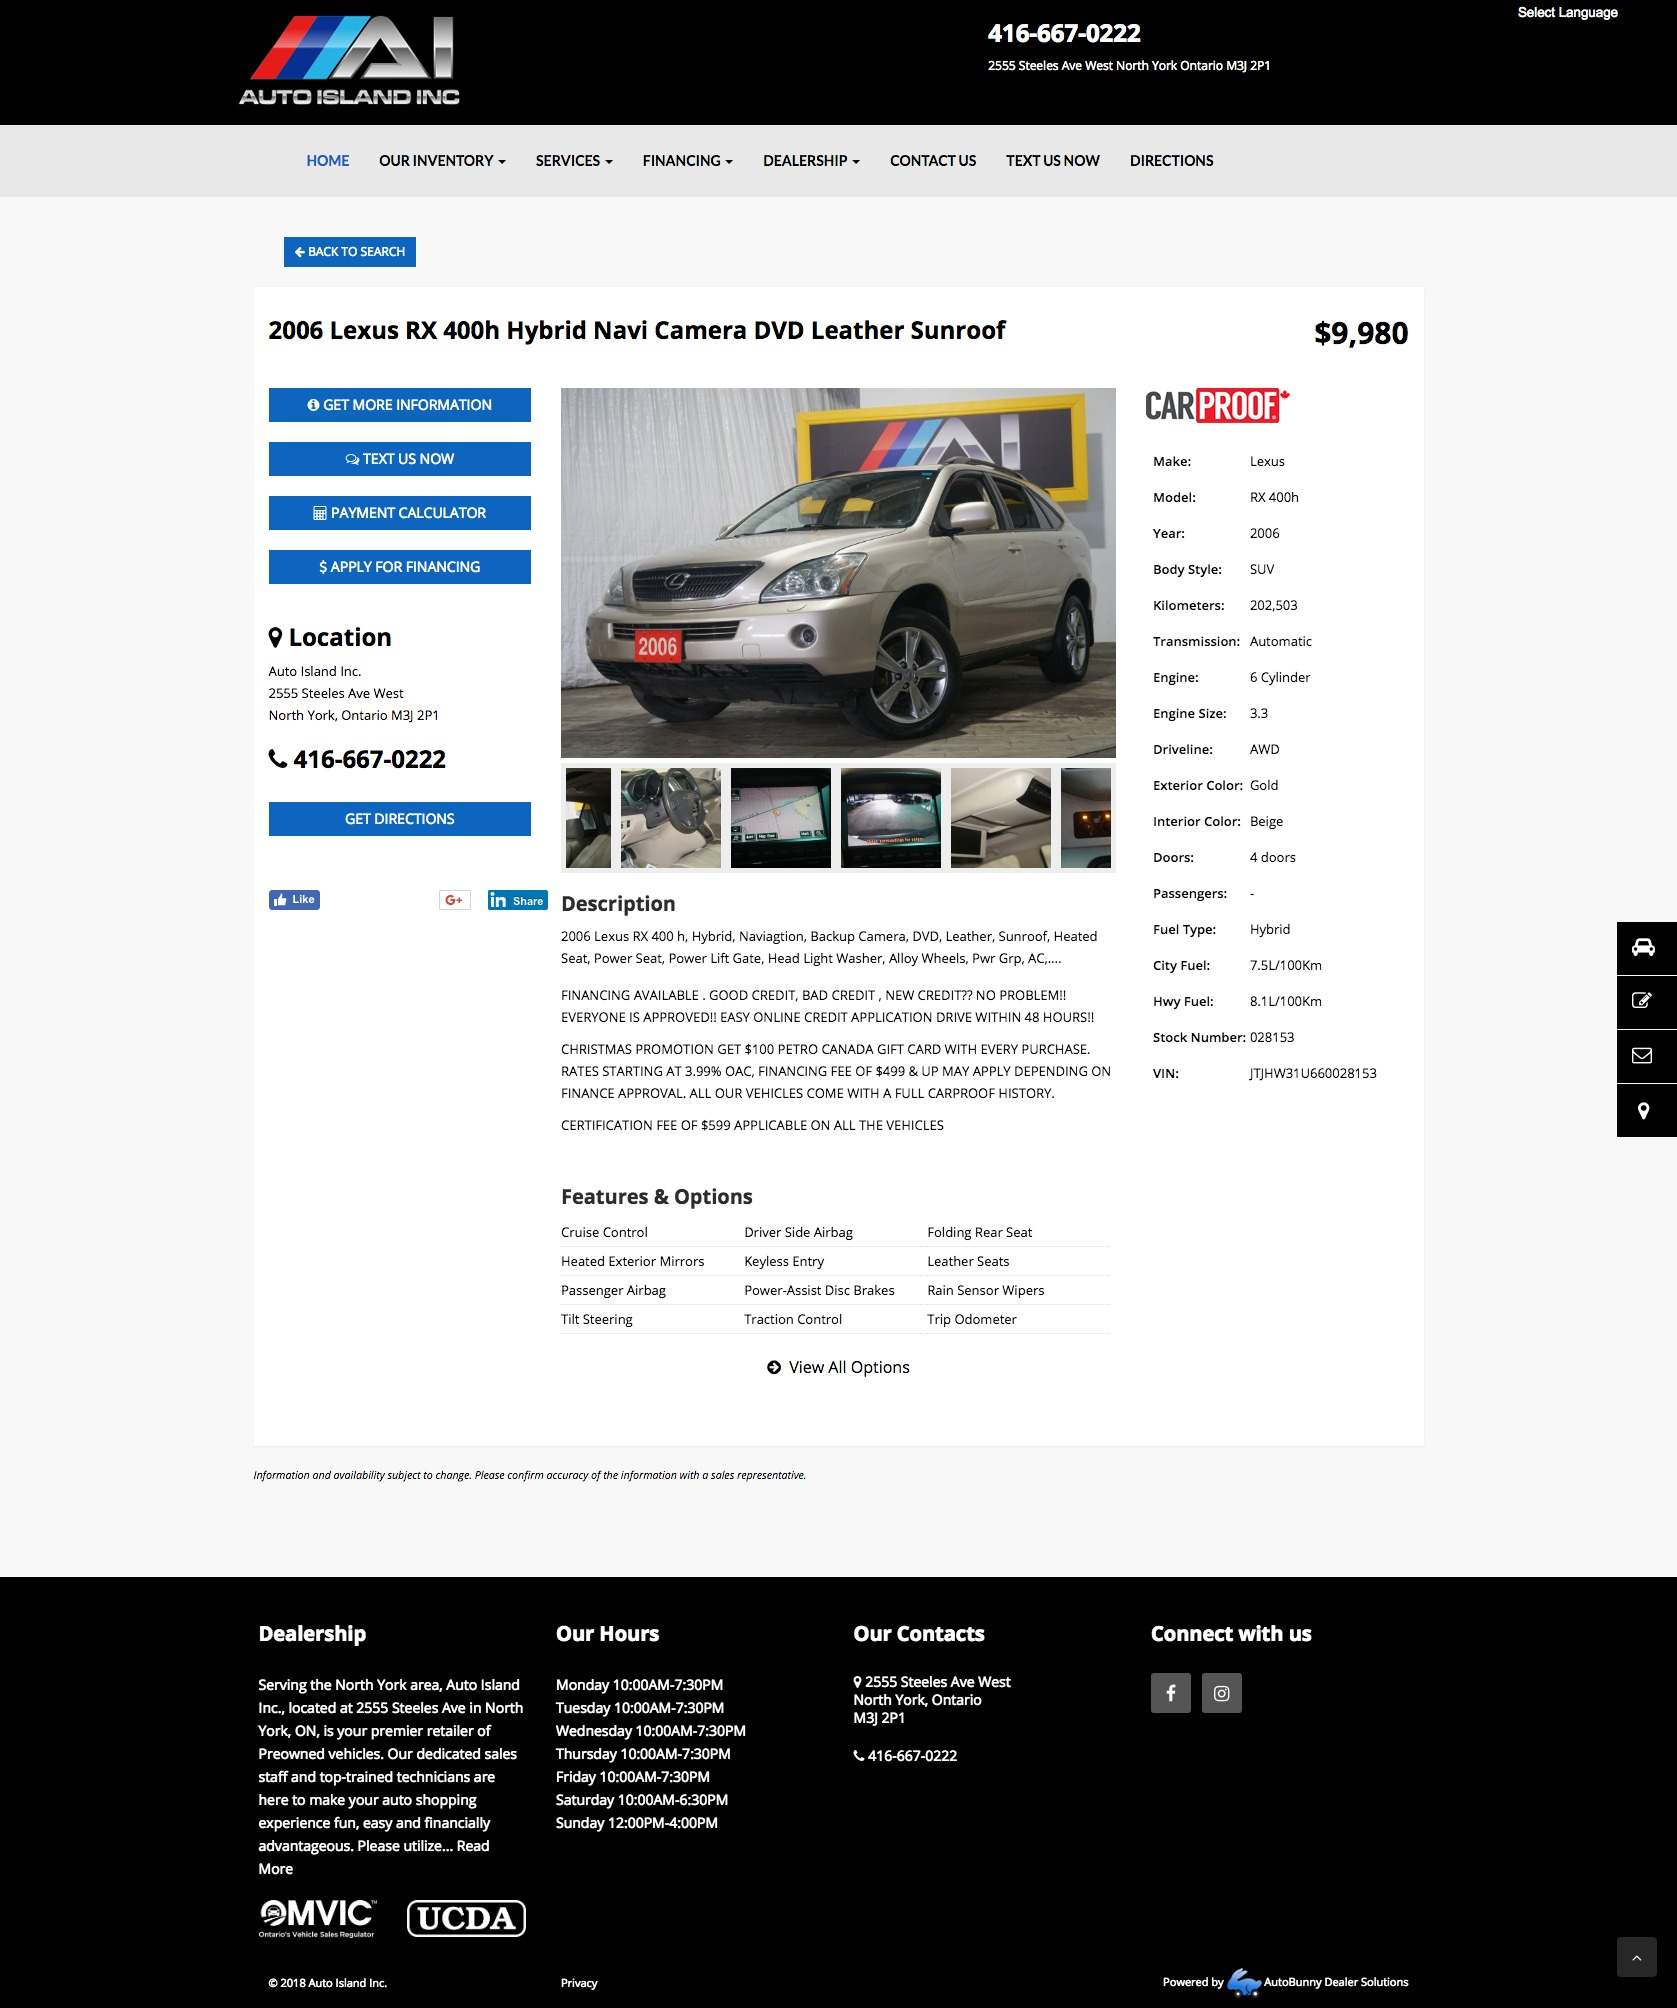car: (1094, 764, 1122, 876)
